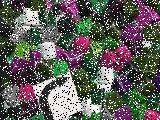Right: (32, 71, 83, 120)
